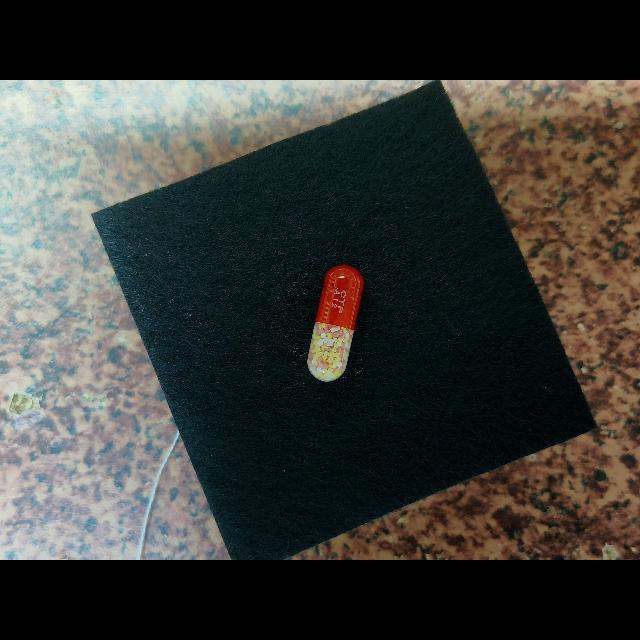Intact Capsule: (307, 265, 364, 382)
